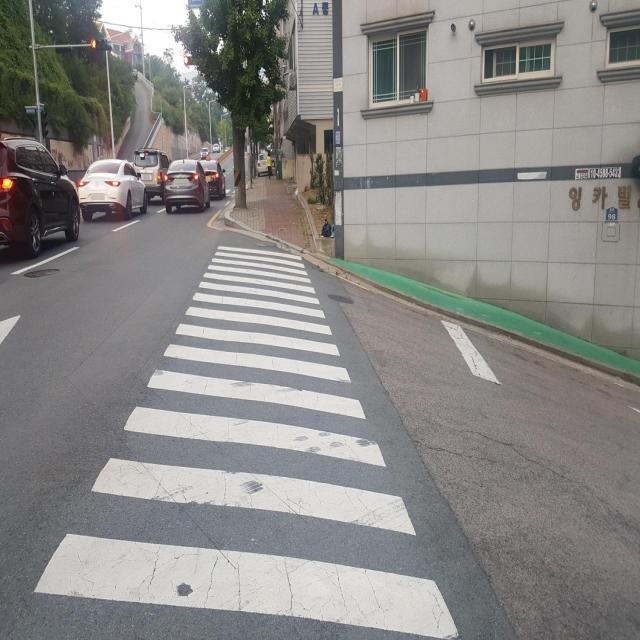횡단보도: (31, 244, 462, 640)
